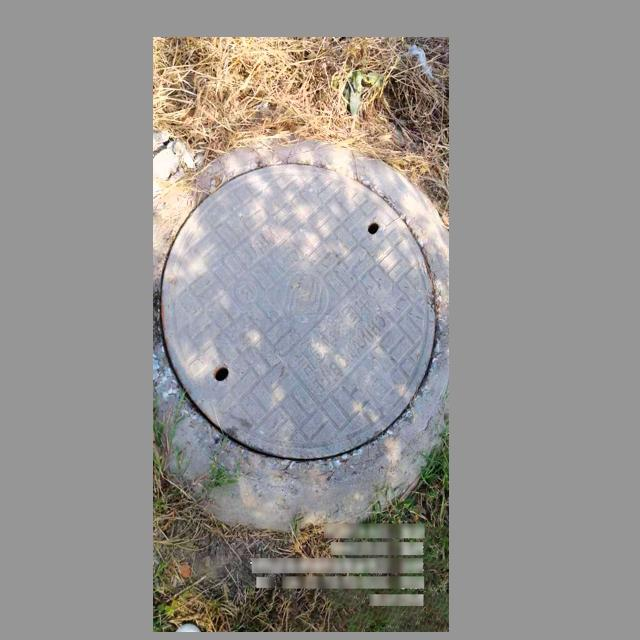good: (153, 141, 449, 480)
